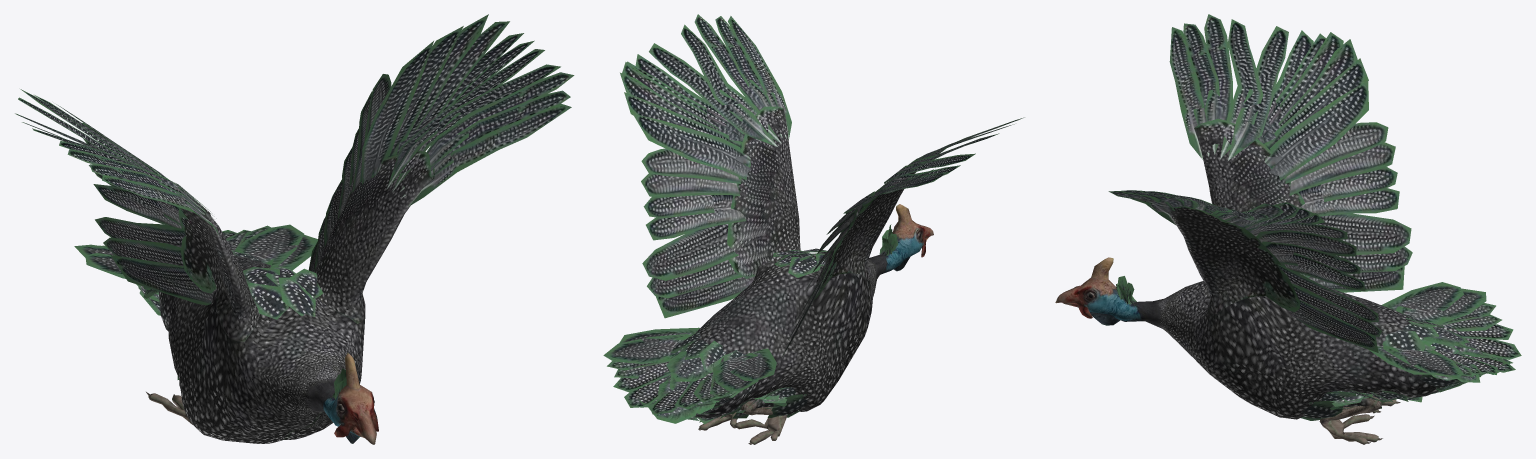
Rendered from guineafowl.glb.
The picture shows the model from 3 angles, left to right: view 1: azimuth 30°, elevation 25°; view 2: azimuth 150°, elevation 25°; view 3: azimuth 270°, elevation 25°; orthographic projection. The views are drawn at different scales.
Parts seen in each view (by area): view 1: Guineafowl001_applied_clean_M_Guineafowl_0_M_Guineafowl_0; view 2: Guineafowl001_applied_clean_M_Guineafowl_0_M_Guineafowl_0; view 3: Guineafowl001_applied_clean_M_Guineafowl_0_M_Guineafowl_0.
Boxes of the visible parts, x1,y1,x2,y2 form: Guineafowl001_applied_clean_M_Guineafowl_0_M_Guineafowl_0: (15, 14, 574, 444); Guineafowl001_applied_clean_M_Guineafowl_0_M_Guineafowl_0: (603, 14, 1024, 444); Guineafowl001_applied_clean_M_Guineafowl_0_M_Guineafowl_0: (1055, 14, 1521, 444).
Size of the model in its own units: 0.6661 by 0.5271 by 0.7129.
1 material, 1 textured.
